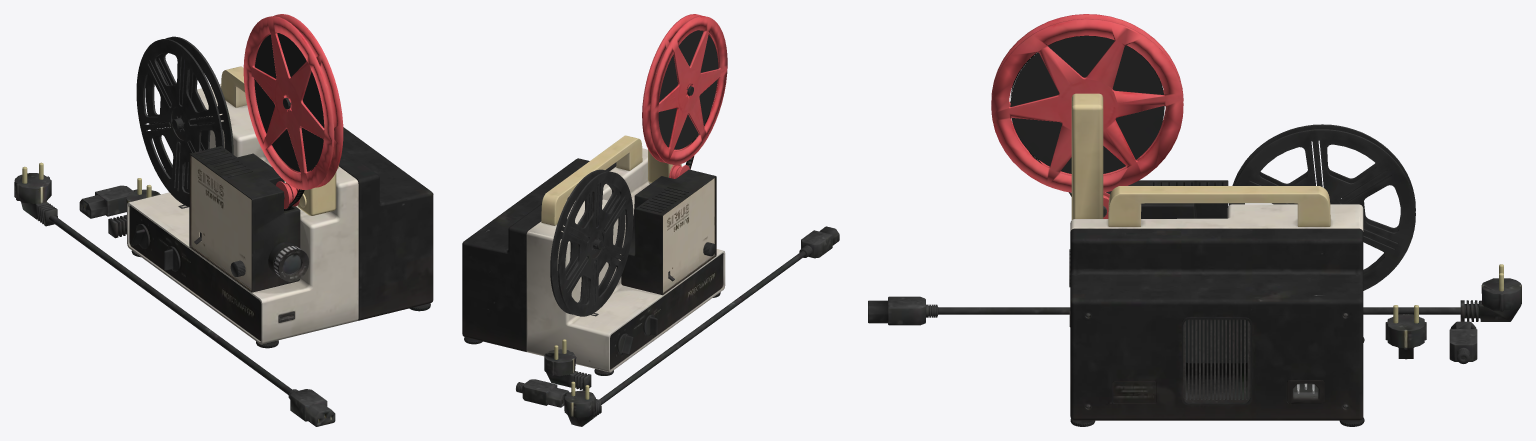
The model's file is filmstrip_projector_8mm.glb.
3 renders of one model, left to right at view 1: azimuth 30°, elevation 25°; view 2: azimuth 150°, elevation 25°; view 3: azimuth 270°, elevation 25°, orthographic. The views are drawn at different scales.
Visible parts, largest first — view 1: filmstrip_projector_8mm, filmstrip_projector_8mm_spool_feed, filmstrip_projector_8mm_spool_takeup, filmstrip_projector_8mm_cable, filmstrip_projector_8mm_01_film_side, filmstrip_projector_8mm_connector, filmstrip_projector_8mm_spool_arm, filmstrip_projector_8mm_schuko; view 2: filmstrip_projector_8mm, filmstrip_projector_8mm_spool_takeup, filmstrip_projector_8mm_spool_feed, filmstrip_projector_8mm_cable, filmstrip_projector_8mm_01_film_side, filmstrip_projector_8mm_schuko, filmstrip_projector_8mm_connector, filmstrip_projector_8mm_spool_arm; view 3: filmstrip_projector_8mm, filmstrip_projector_8mm_spool_feed, filmstrip_projector_8mm_spool_takeup, filmstrip_projector_8mm_01_film_side, filmstrip_projector_8mm_cable, filmstrip_projector_8mm_spool_arm, filmstrip_projector_8mm_schuko, filmstrip_projector_8mm_connector.
Boxes of the visible parts, x1,y1,x2,y2 form: filmstrip_projector_8mm: (127,66,433,348); filmstrip_projector_8mm_spool_feed: (243,14,343,189); filmstrip_projector_8mm_spool_takeup: (136,36,233,206); filmstrip_projector_8mm_cable: (14,162,335,426); filmstrip_projector_8mm_01_film_side: (254,33,324,171); filmstrip_projector_8mm_connector: (79,185,137,218); filmstrip_projector_8mm_spool_arm: (297,101,336,215); filmstrip_projector_8mm_schuko: (108,178,160,238); filmstrip_projector_8mm: (462,135,725,375); filmstrip_projector_8mm_spool_takeup: (550,169,633,316); filmstrip_projector_8mm_spool_feed: (642,14,727,164); filmstrip_projector_8mm_cable: (564,226,839,426); filmstrip_projector_8mm_01_film_side: (658,30,718,149); filmstrip_projector_8mm_schuko: (544,339,591,390); filmstrip_projector_8mm_connector: (516,379,569,407); filmstrip_projector_8mm_spool_arm: (648,149,681,182); filmstrip_projector_8mm: (1069,180,1364,426); filmstrip_projector_8mm_spool_feed: (991,14,1183,192); filmstrip_projector_8mm_spool_takeup: (1229,124,1415,290); filmstrip_projector_8mm_01_film_side: (1010,36,1164,173); filmstrip_projector_8mm_cable: (868,264,1521,325); filmstrip_projector_8mm_spool_arm: (1071,93,1103,219); filmstrip_projector_8mm_schuko: (1385,305,1426,359); filmstrip_projector_8mm_connector: (1449,321,1477,363).
Size of the model in its own units: 0.2537 by 0.3454 by 0.6026.
Materials: 2 (2 with a texture image).
